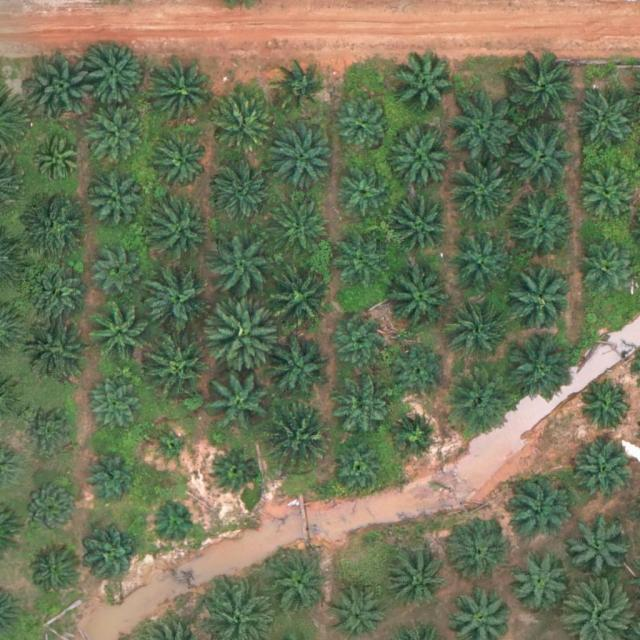Healthy: (146, 196, 217, 267), (212, 299, 283, 370), (445, 371, 516, 442), (506, 190, 577, 261), (501, 259, 572, 330), (29, 56, 99, 127), (146, 264, 216, 335), (209, 367, 279, 438), (212, 233, 282, 304), (267, 121, 337, 192), (447, 94, 518, 164), (504, 336, 574, 407), (18, 193, 88, 263), (145, 328, 215, 398), (267, 262, 337, 332), (266, 400, 336, 470), (385, 123, 455, 193), (384, 259, 454, 329), (449, 159, 519, 229), (442, 297, 512, 367), (508, 54, 578, 124), (509, 124, 579, 194), (82, 39, 145, 102), (84, 106, 147, 169), (147, 63, 210, 126), (214, 91, 277, 154), (267, 339, 330, 402), (269, 554, 332, 617), (577, 87, 640, 150), (569, 516, 632, 579), (505, 478, 568, 541), (385, 549, 448, 612), (28, 315, 90, 378), (90, 301, 152, 364), (272, 193, 334, 256), (329, 381, 391, 444), (391, 55, 453, 118), (387, 193, 449, 256), (449, 229, 511, 292), (571, 444, 633, 507), (448, 518, 510, 581), (215, 162, 277, 224), (508, 550, 570, 612), (27, 548, 82, 603), (24, 481, 79, 536), (24, 405, 79, 460), (89, 168, 144, 223), (94, 244, 149, 299), (89, 381, 144, 436), (85, 448, 140, 503), (87, 531, 142, 586), (389, 409, 444, 464), (332, 96, 387, 151), (334, 164, 389, 219), (335, 238, 390, 293), (334, 443, 389, 498), (392, 344, 447, 399), (580, 166, 635, 221), (582, 241, 637, 296), (579, 380, 634, 435), (31, 134, 85, 189), (32, 270, 86, 325), (157, 139, 211, 194), (276, 59, 330, 114), (333, 316, 387, 371)
Small: (211, 448, 258, 495), (152, 500, 199, 547), (152, 430, 192, 470)
